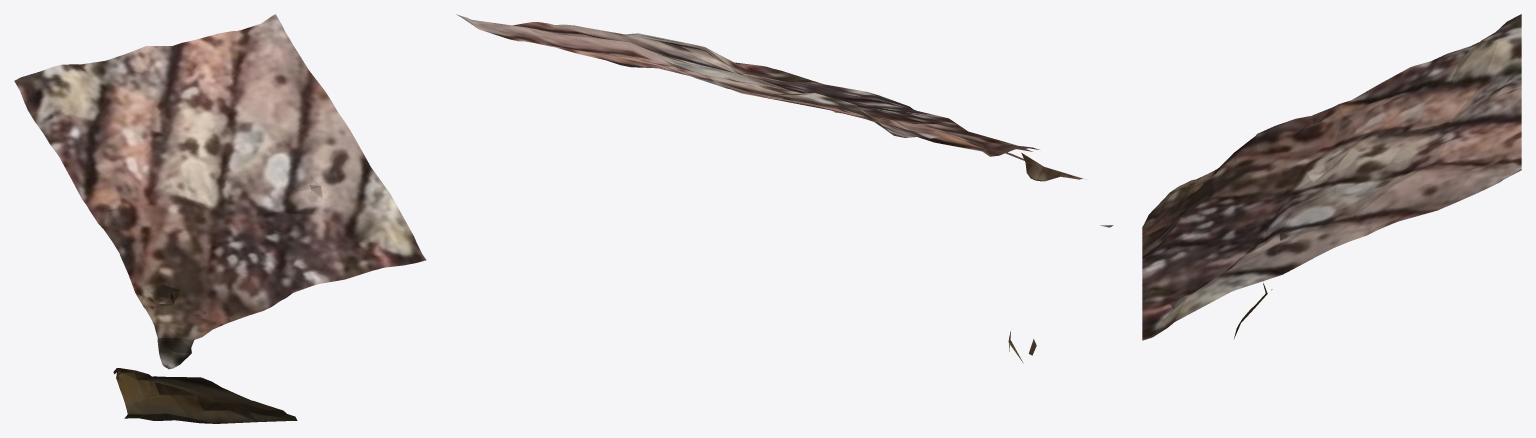
3 renders of one model, left to right at view 1: azimuth 30°, elevation 25°; view 2: azimuth 150°, elevation 25°; view 3: azimuth 270°, elevation 25°, orthographic. The views are drawn at different scales.
Size of the model in its own units: 0.8374 by 0.8157 by 0.8373.
Materials: 3 (3 with a texture image).
